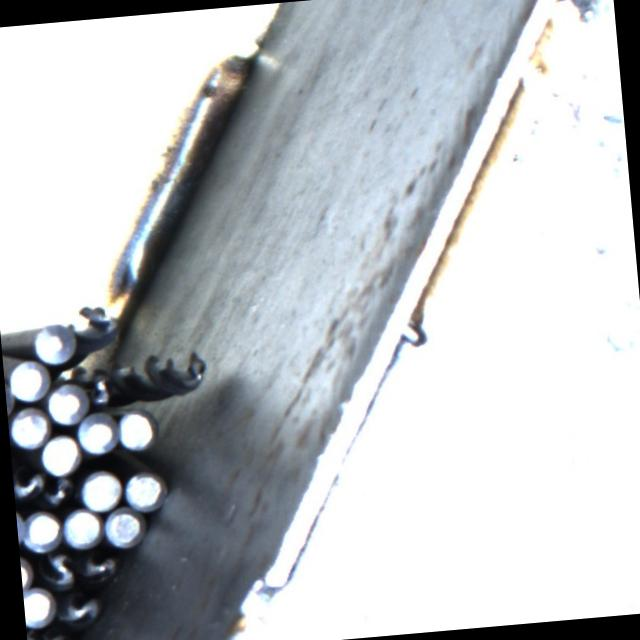tool: (2, 356, 50, 403), (120, 467, 166, 512), (46, 380, 90, 426), (78, 468, 122, 513), (36, 431, 80, 476), (30, 321, 74, 364), (59, 505, 102, 548), (20, 509, 62, 552), (101, 504, 142, 548), (114, 406, 155, 450), (7, 406, 48, 449), (74, 414, 118, 454), (22, 586, 54, 626)
tool_b: (124, 350, 208, 400), (72, 299, 122, 356), (53, 588, 103, 630), (36, 548, 79, 594), (75, 545, 122, 586), (84, 368, 122, 412), (41, 470, 78, 509), (12, 466, 46, 502), (36, 625, 82, 640)
